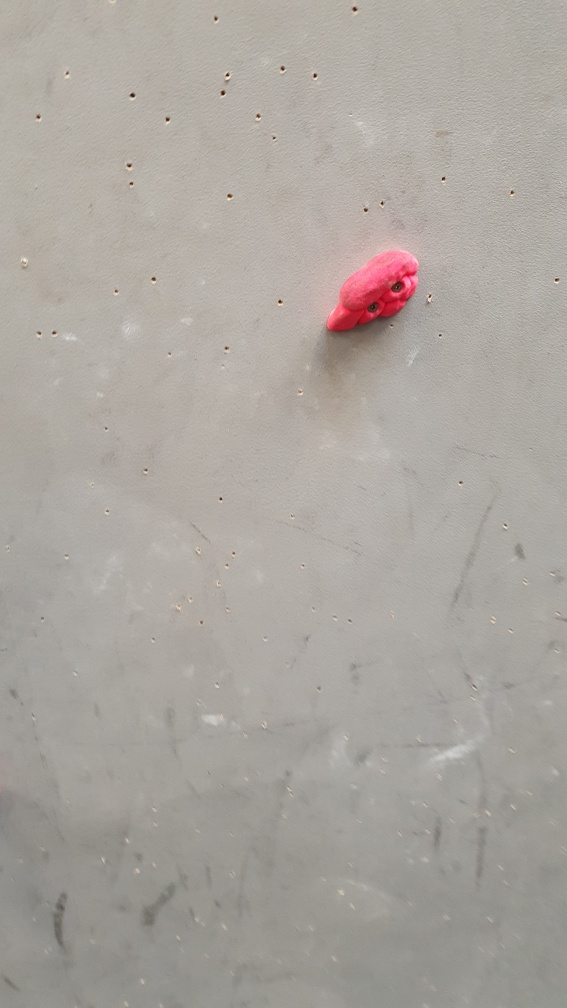Jug: (324, 248, 425, 336)
